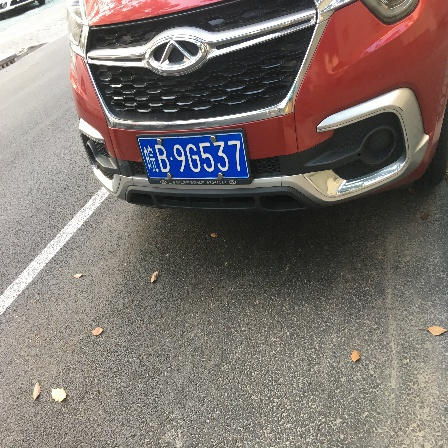plate: (137, 129, 252, 186)
